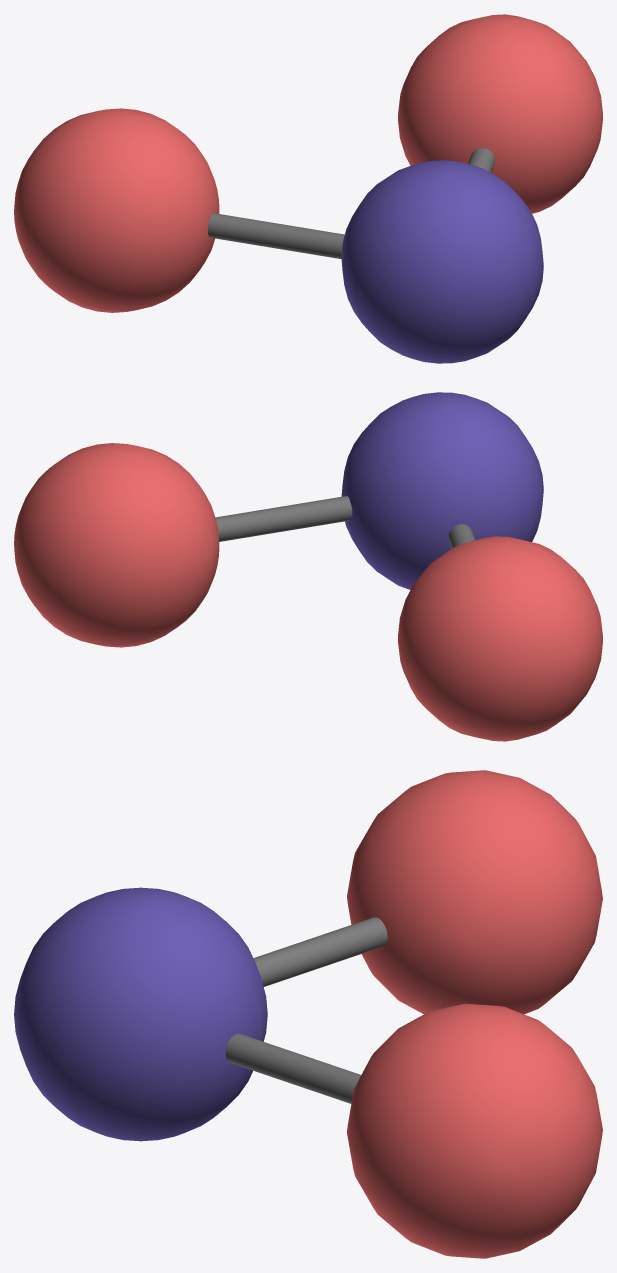
File: MgB2.fbx
3 renders of one model, top to bottom at view 1: azimuth 30°, elevation 25°; view 2: azimuth 150°, elevation 25°; view 3: azimuth 270°, elevation 25°, orthographic. The views are drawn at different scales.
Parts seen in each view (by area): view 1: MgB2; view 2: MgB2; view 3: MgB2.
Boxes of the visible parts, bbox=[...] form: MgB2: bbox=[14, 14, 602, 363]; MgB2: bbox=[14, 392, 602, 741]; MgB2: bbox=[14, 770, 602, 1258].
Size of the model in its own units: 8.43 by 2.67 by 6.14.
